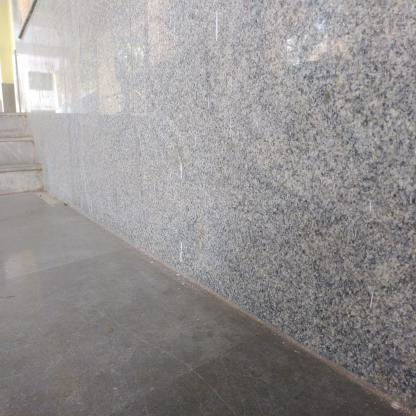stairs: (1, 112, 27, 202)
